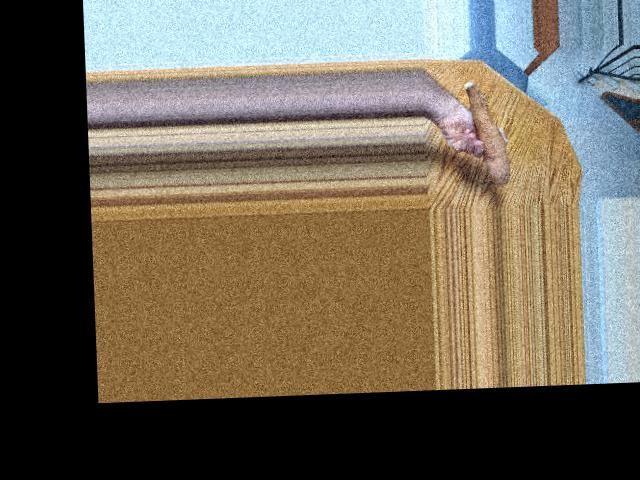sweet_potato: (454, 81, 515, 182)
